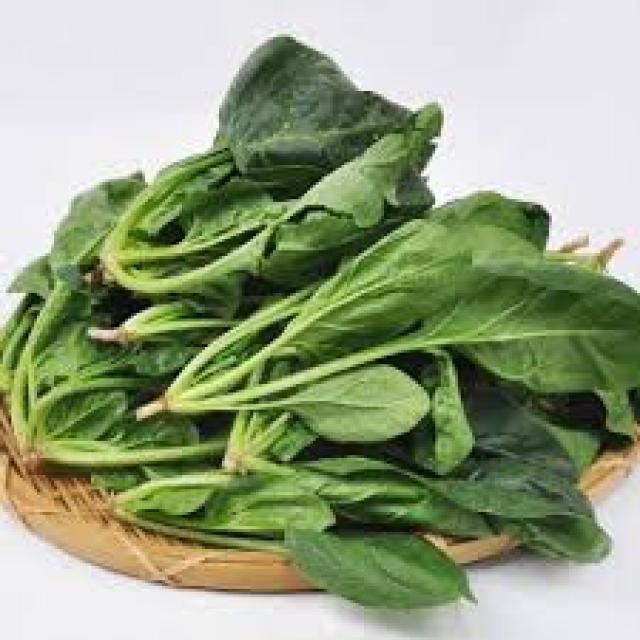Spinach bagged/loose: (0, 37, 640, 610)
